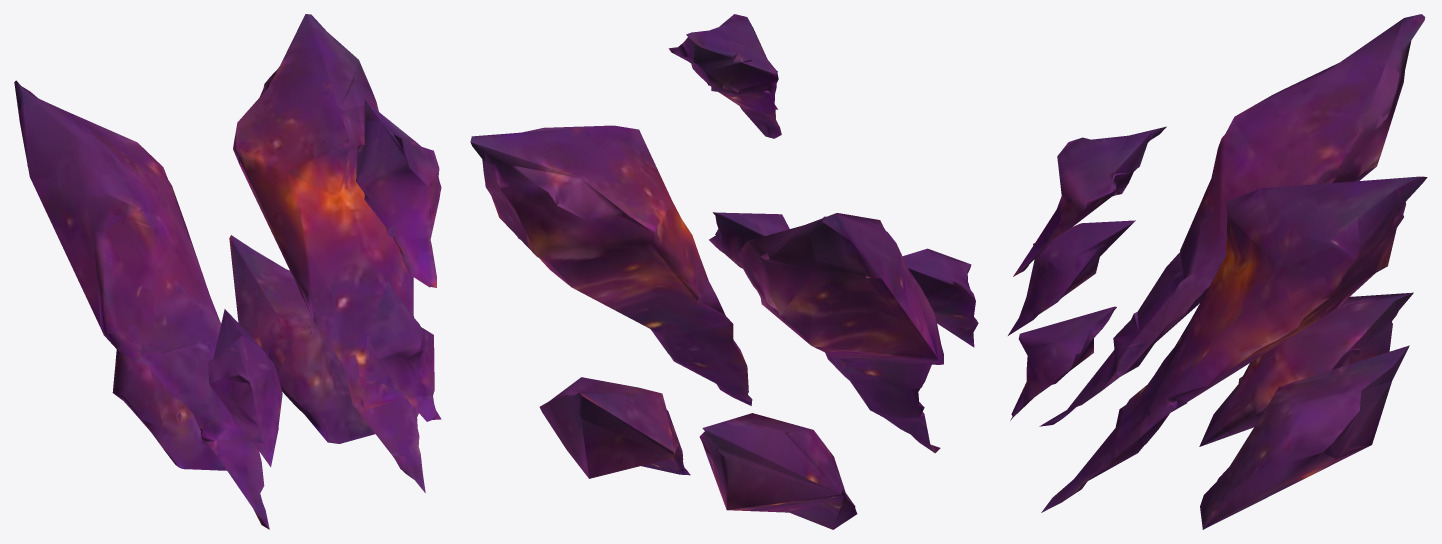
The model's file is proj_magic.glb.
3 views of the same model, side by side, from view 1: azimuth 30°, elevation 25°; view 2: azimuth 150°, elevation 25°; view 3: azimuth 270°, elevation 25° (orthographic). The views are drawn at different scales.
Visible parts, largest first — view 1: Magic attack; view 2: Magic attack; view 3: Magic attack.
Boxes of the visible parts, x1=… form: Magic attack: x1=14, y1=14, x2=441, y2=529; Magic attack: x1=470, y1=14, x2=978, y2=529; Magic attack: x1=1008, y1=14, x2=1427, y2=529.
Bounding box in the file's own units: 1.92 × 1.96 × 1.93.
Materials: 1 (1 with a texture image).
